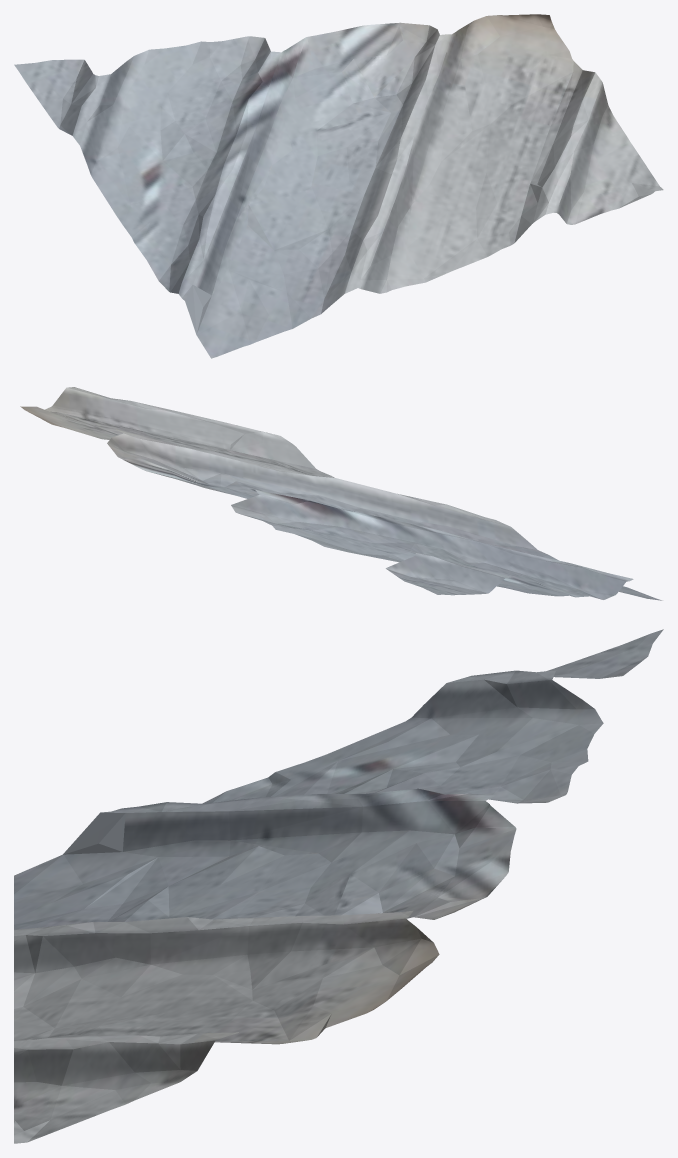
The picture shows the model from 3 angles, top to bottom: view 1: azimuth 30°, elevation 25°; view 2: azimuth 150°, elevation 25°; view 3: azimuth 270°, elevation 25°; orthographic projection. The views are drawn at different scales.
Bounding box in the file's own units: 0.8373 × 0.2643 × 0.6318.
Materials: 2 (2 with a texture image).
